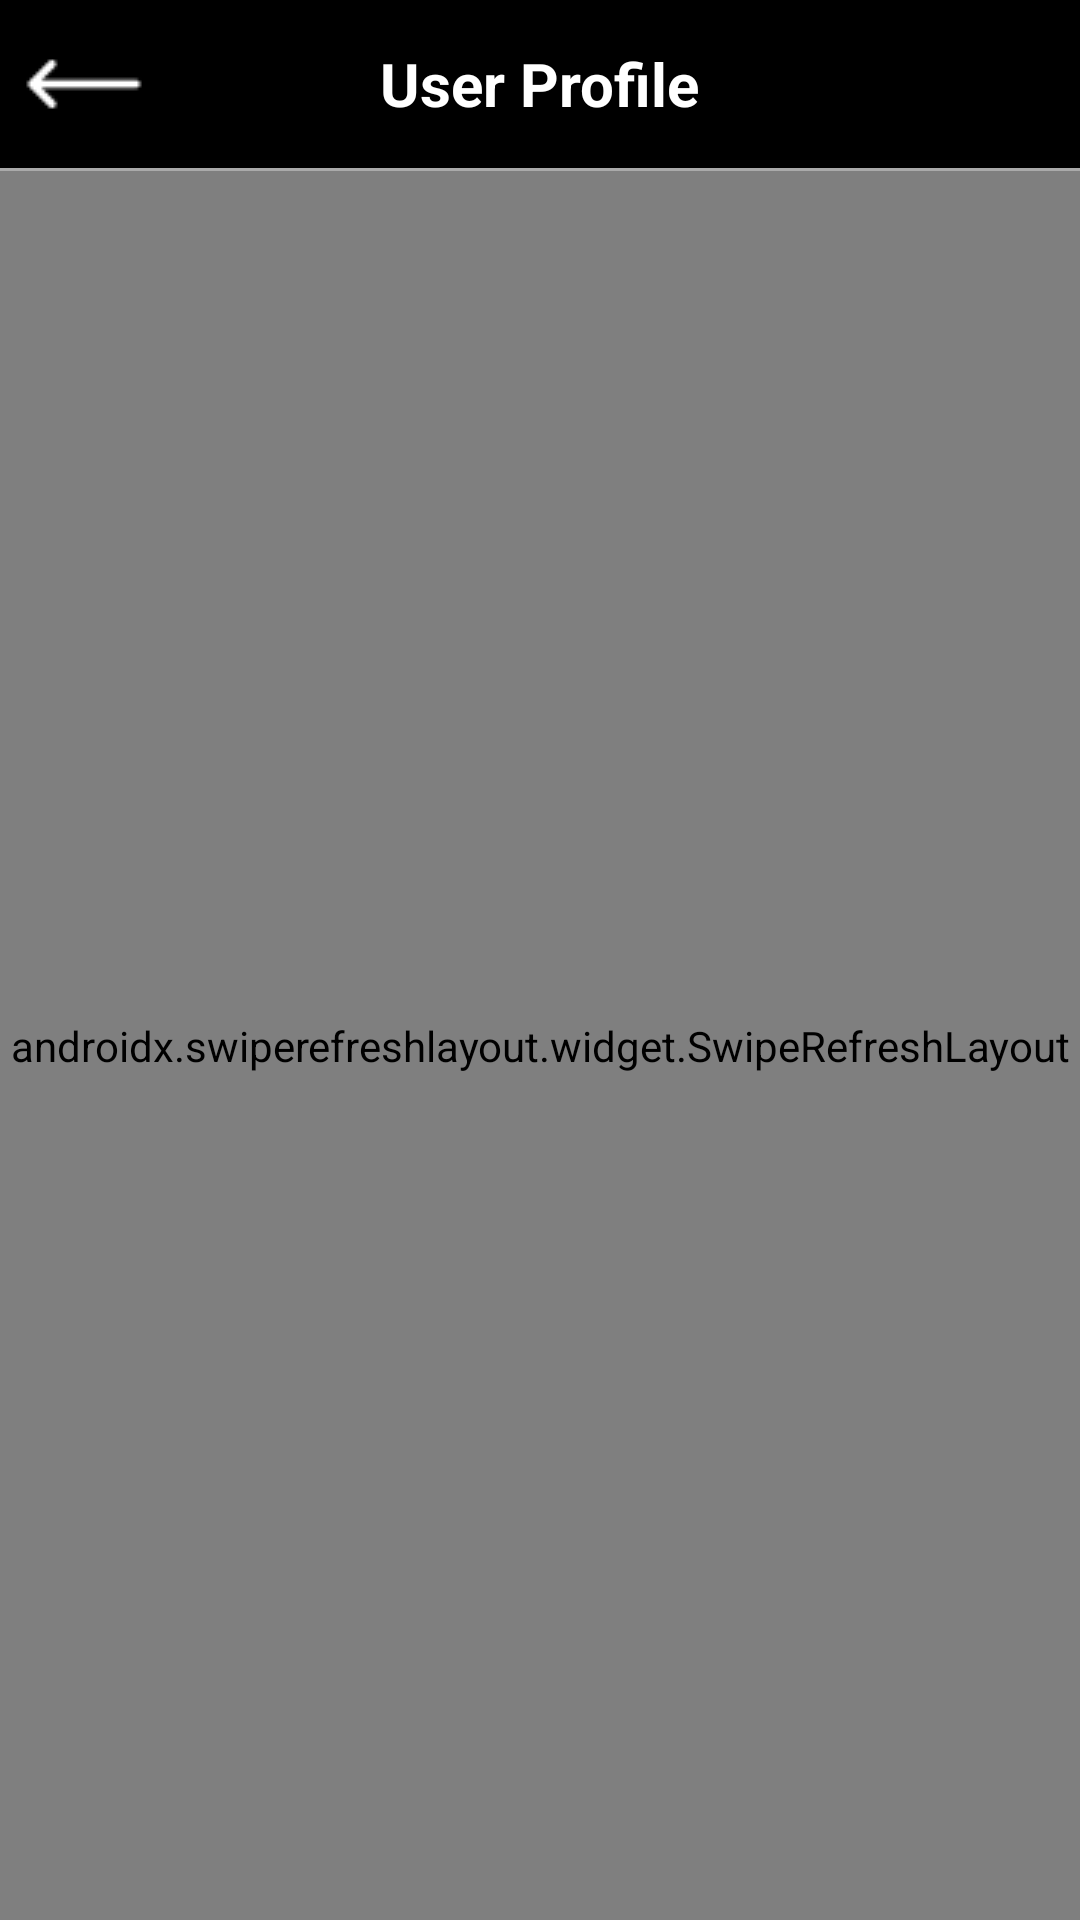

Icons on this 1080 x 1920 Android screen, each with its box as (x1, y1, x2, y2):
Go back: (26, 59, 142, 109)
